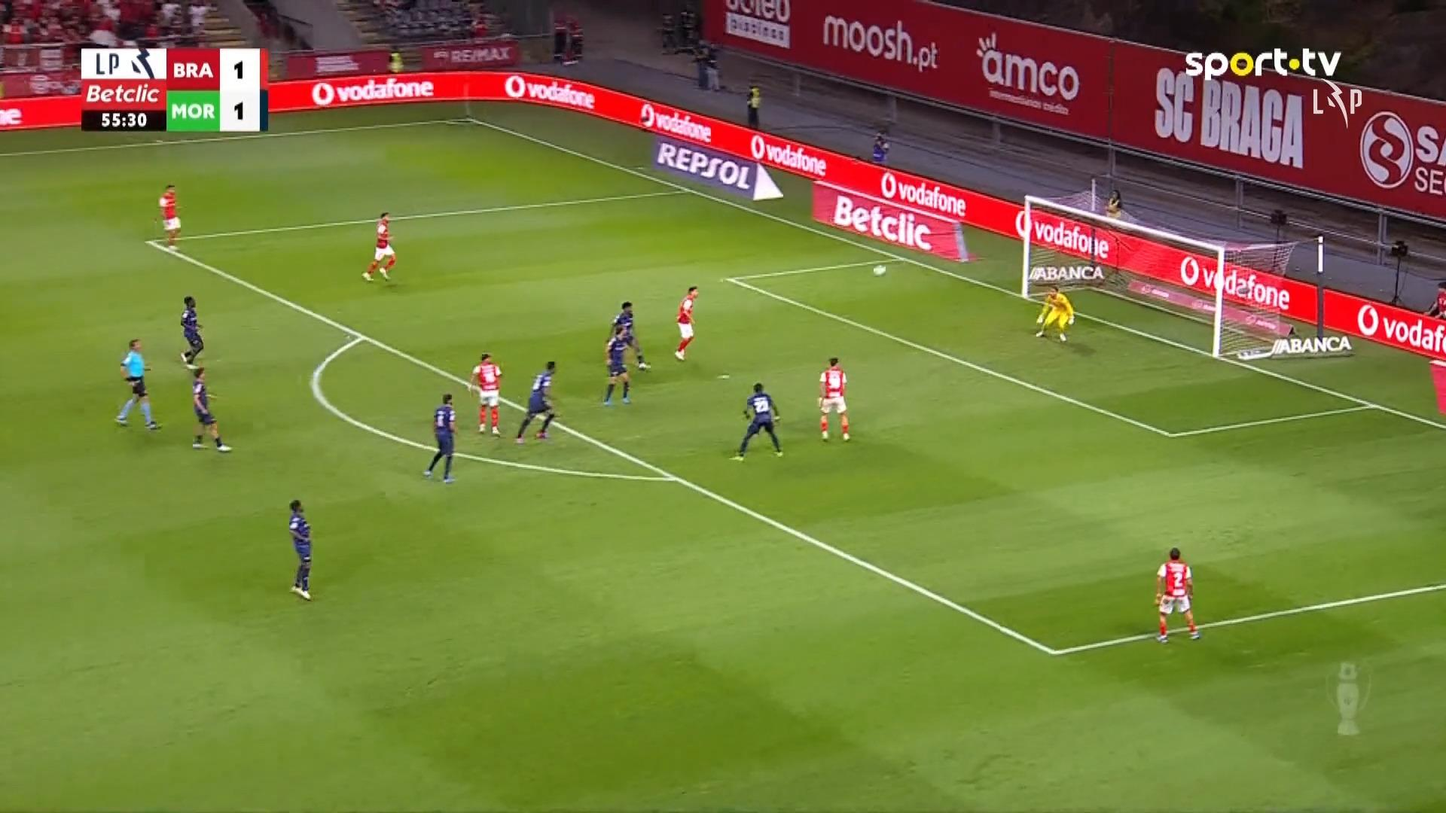ball: (872, 264, 886, 276)
goalkeeper: (1034, 285, 1075, 343)
player: (1153, 546, 1200, 643), (731, 381, 783, 461), (189, 366, 232, 452), (514, 360, 557, 443), (422, 392, 457, 483), (468, 352, 503, 436), (816, 356, 850, 440), (609, 300, 649, 370), (602, 324, 635, 405), (287, 498, 313, 600), (361, 211, 396, 282), (673, 285, 698, 361), (179, 295, 204, 367), (157, 183, 182, 250)
referee: (114, 337, 162, 430)
